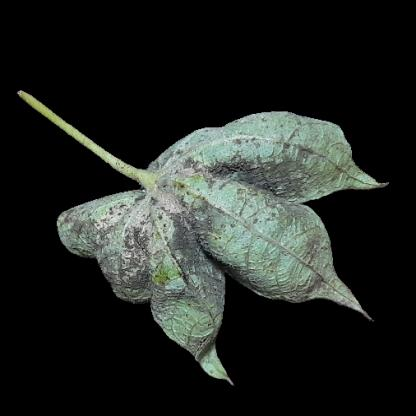curl_stage2: (235, 236, 292, 270)
sooty: (169, 192, 225, 331), (83, 214, 181, 282), (234, 156, 318, 200)
